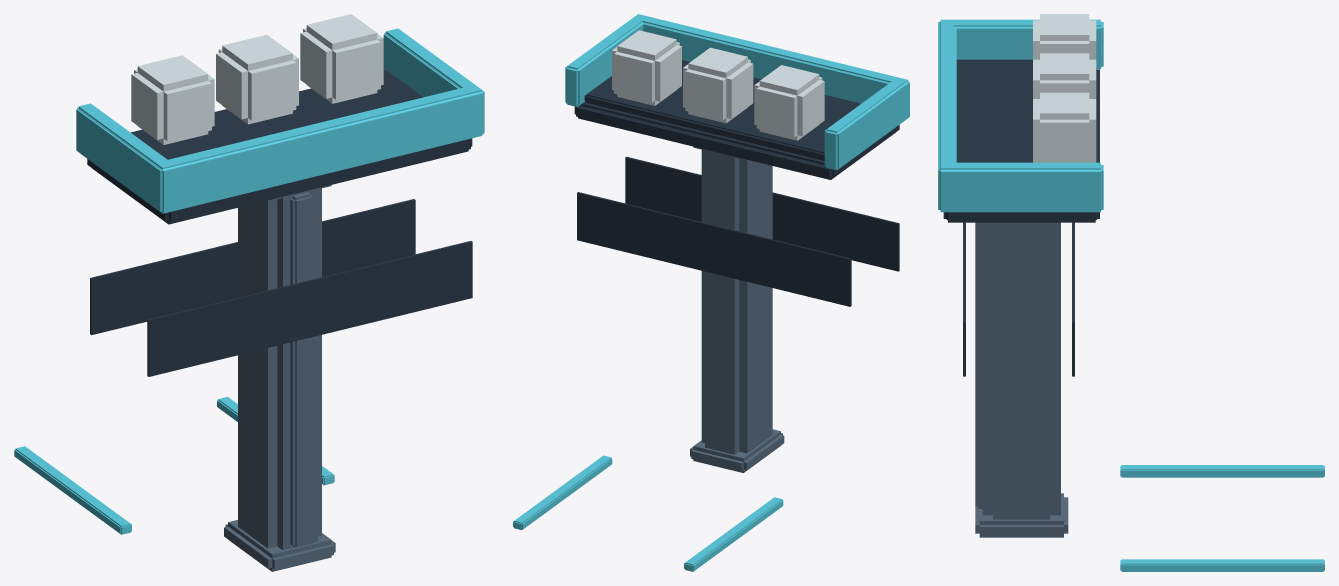
3 views of the same model, side by side, from view 1: azimuth 30°, elevation 25°; view 2: azimuth 150°, elevation 25°; view 3: azimuth 270°, elevation 25° (orthographic). The views are drawn at different scales.
Visible parts, largest first — view 1: TrayPedestal, Audience progress backing, TrayBackRail, Front progress backing, TrayBed, Die 0, Die 2, Die 1, Side rail -0.455, Side rail 0.455, Left stance rail; view 2: TrayPedestal, Front progress backing, TrayBed, Audience progress backing, TrayBackRail, Die 0, Die 1, Die 2, Side rail -0.455, Side rail 0.455, Right stance rail, Left stance rail; view 3: TrayPedestal, TrayBed, Side rail 0.455, Die 2, Side rail -0.455, TrayBackRail, Left stance rail, Right stance rail, Die 0, Die 1.
Part boxes in pixels (x1,y1,x2,y2): TrayPedestal: [224, 185, 335, 571]; Audience progress backing: [147, 241, 472, 376]; TrayBackRail: [155, 85, 484, 213]; Front progress backing: [90, 199, 415, 335]; TrayBed: [87, 70, 472, 224]; Die 0: [131, 55, 214, 144]; Die 2: [300, 14, 383, 103]; Die 1: [216, 34, 298, 124]; Side rail -0.455: [76, 103, 173, 212]; Side rail 0.455: [383, 28, 482, 97]; Left stance rail: [14, 446, 131, 534]; TrayPedestal: [690, 146, 784, 472]; Front progress backing: [577, 192, 851, 306]; TrayBed: [574, 60, 899, 179]; Audience progress backing: [625, 156, 899, 271]; TrayBackRail: [633, 14, 909, 117]; Die 0: [754, 65, 824, 140]; Die 1: [683, 47, 753, 123]; Die 2: [612, 30, 681, 105]; Side rail -0.455: [824, 79, 908, 170]; Side rail 0.455: [565, 14, 646, 106]; Right stance rail: [513, 455, 612, 529]; Left stance rail: [684, 497, 783, 571]; TrayPedestal: [975, 222, 1068, 537]; TrayBed: [943, 59, 1099, 222]; Side rail 0.455: [942, 162, 1103, 212]; Die 2: [1033, 92, 1096, 162]; Side rail -0.455: [943, 19, 1103, 69]; TrayBackRail: [938, 19, 956, 212]; Left stance rail: [1120, 465, 1324, 477]; Right stance rail: [1120, 559, 1324, 571]; Die 0: [1033, 14, 1096, 59]; Die 1: [1033, 53, 1096, 98].
Bounding box in the file's own units: 0.96 × 1.36 × 1.04.
